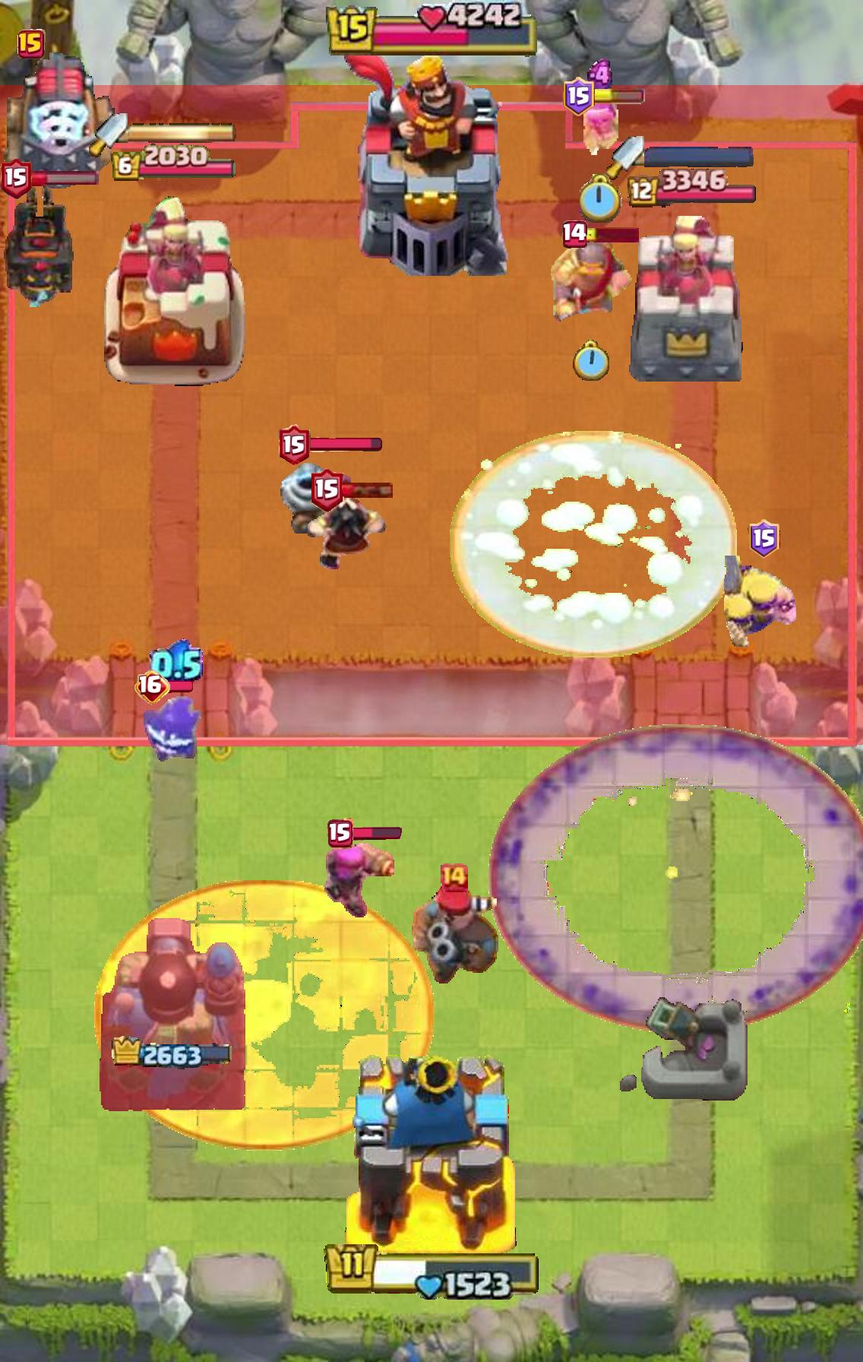bar: (22, 170, 100, 187), (307, 437, 383, 452), (340, 482, 394, 499), (590, 89, 645, 104), (584, 227, 639, 242), (350, 827, 402, 841), (166, 681, 193, 694)
bar-level: (311, 467, 344, 513), (748, 519, 781, 559), (0, 159, 32, 200), (279, 424, 311, 465), (134, 670, 170, 705), (563, 77, 595, 116), (438, 863, 469, 893), (327, 817, 354, 849), (18, 29, 46, 59), (562, 220, 588, 248)
